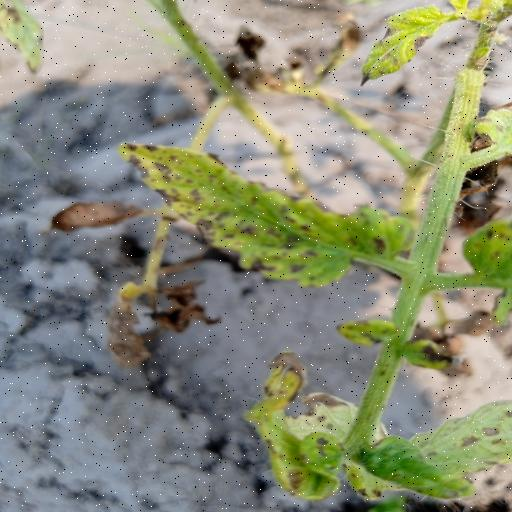Tomato_Brown_Spots: (122, 138, 418, 290)
